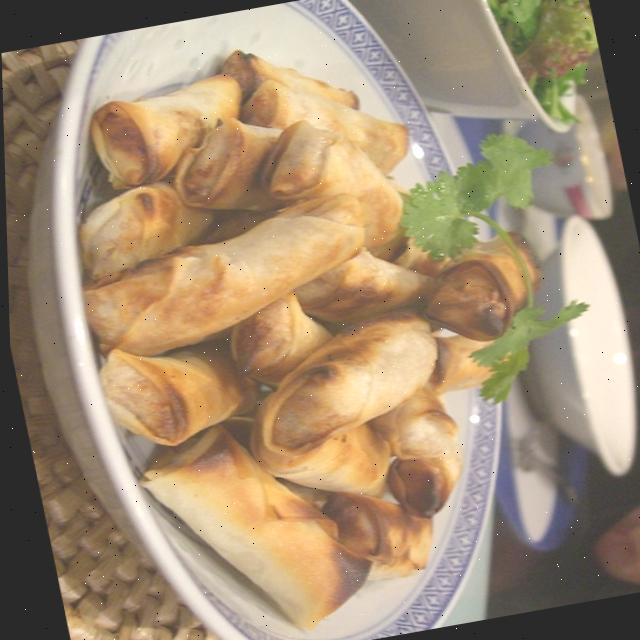炸货点心: (14, 10, 577, 640)
